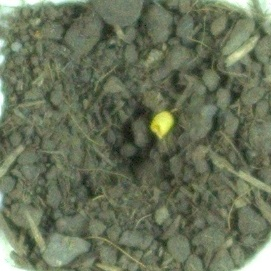chilli seed: (148, 109, 175, 141)
